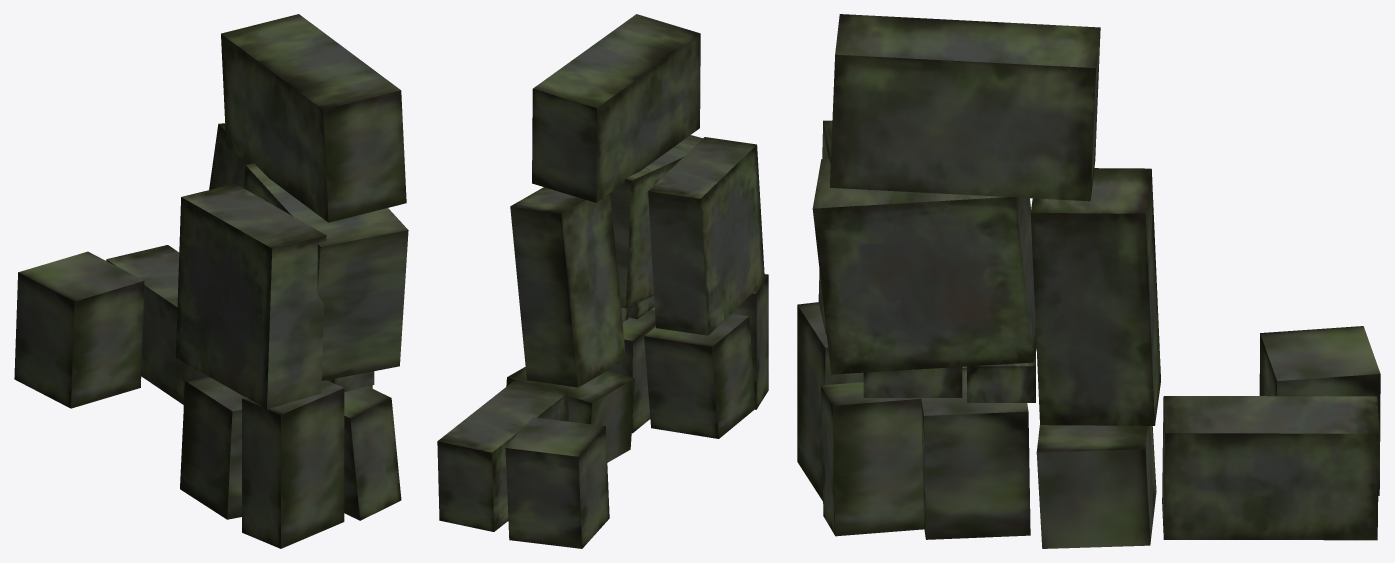
The model's file is ruin-wall_broken_03.fbx.
3 renders of one model, left to right at view 1: azimuth 30°, elevation 25°; view 2: azimuth 150°, elevation 25°; view 3: azimuth 270°, elevation 25°, orthographic. The views are drawn at different scales.
Visible parts, largest first — view 1: wall_broken_03; view 2: wall_broken_03; view 3: wall_broken_03.
Boxes of the visible parts, left/top/right/bottom form: wall_broken_03: left=14, top=14, right=408, bottom=548; wall_broken_03: left=437, top=14, right=768, bottom=548; wall_broken_03: left=797, top=14, right=1380, bottom=548.
Bounding box in the file's own units: 180 × 392 × 423.
